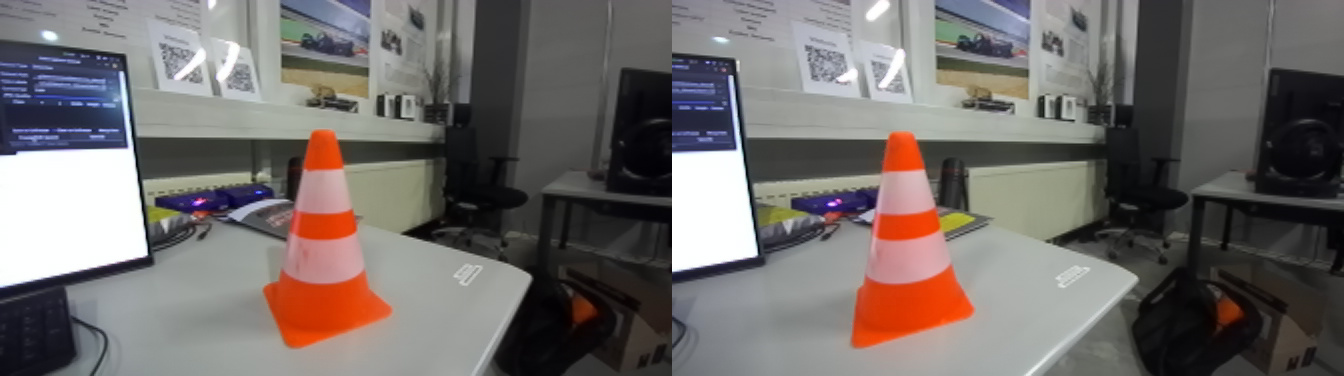cone: (260, 129, 399, 354), (845, 135, 980, 358)
